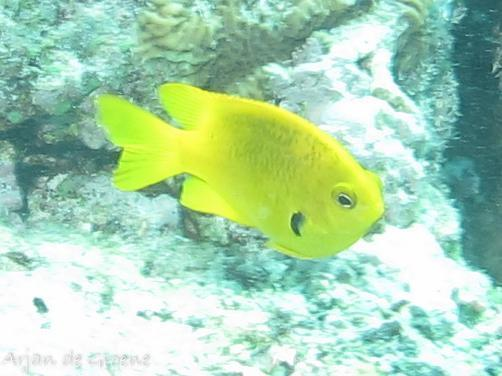Fish: (88, 68, 384, 270)
